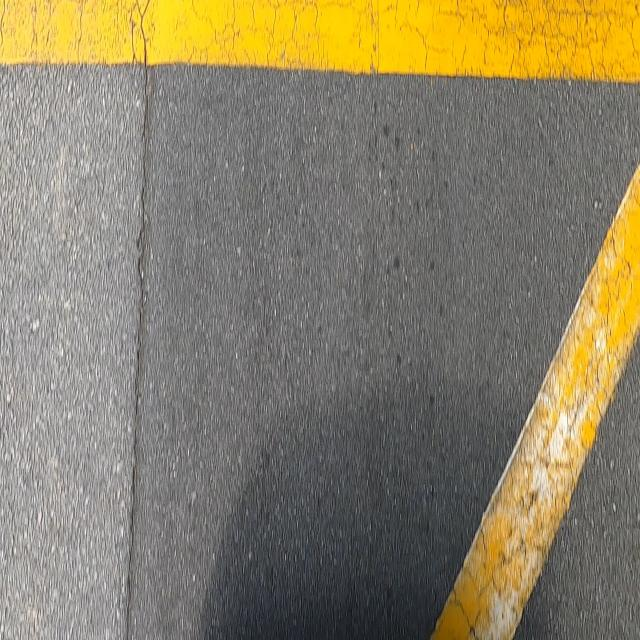Retak-Buaya: (447, 219, 640, 640), (454, 1, 639, 83), (204, 1, 329, 75)
Retak-Memanjang: (121, 0, 158, 637)
